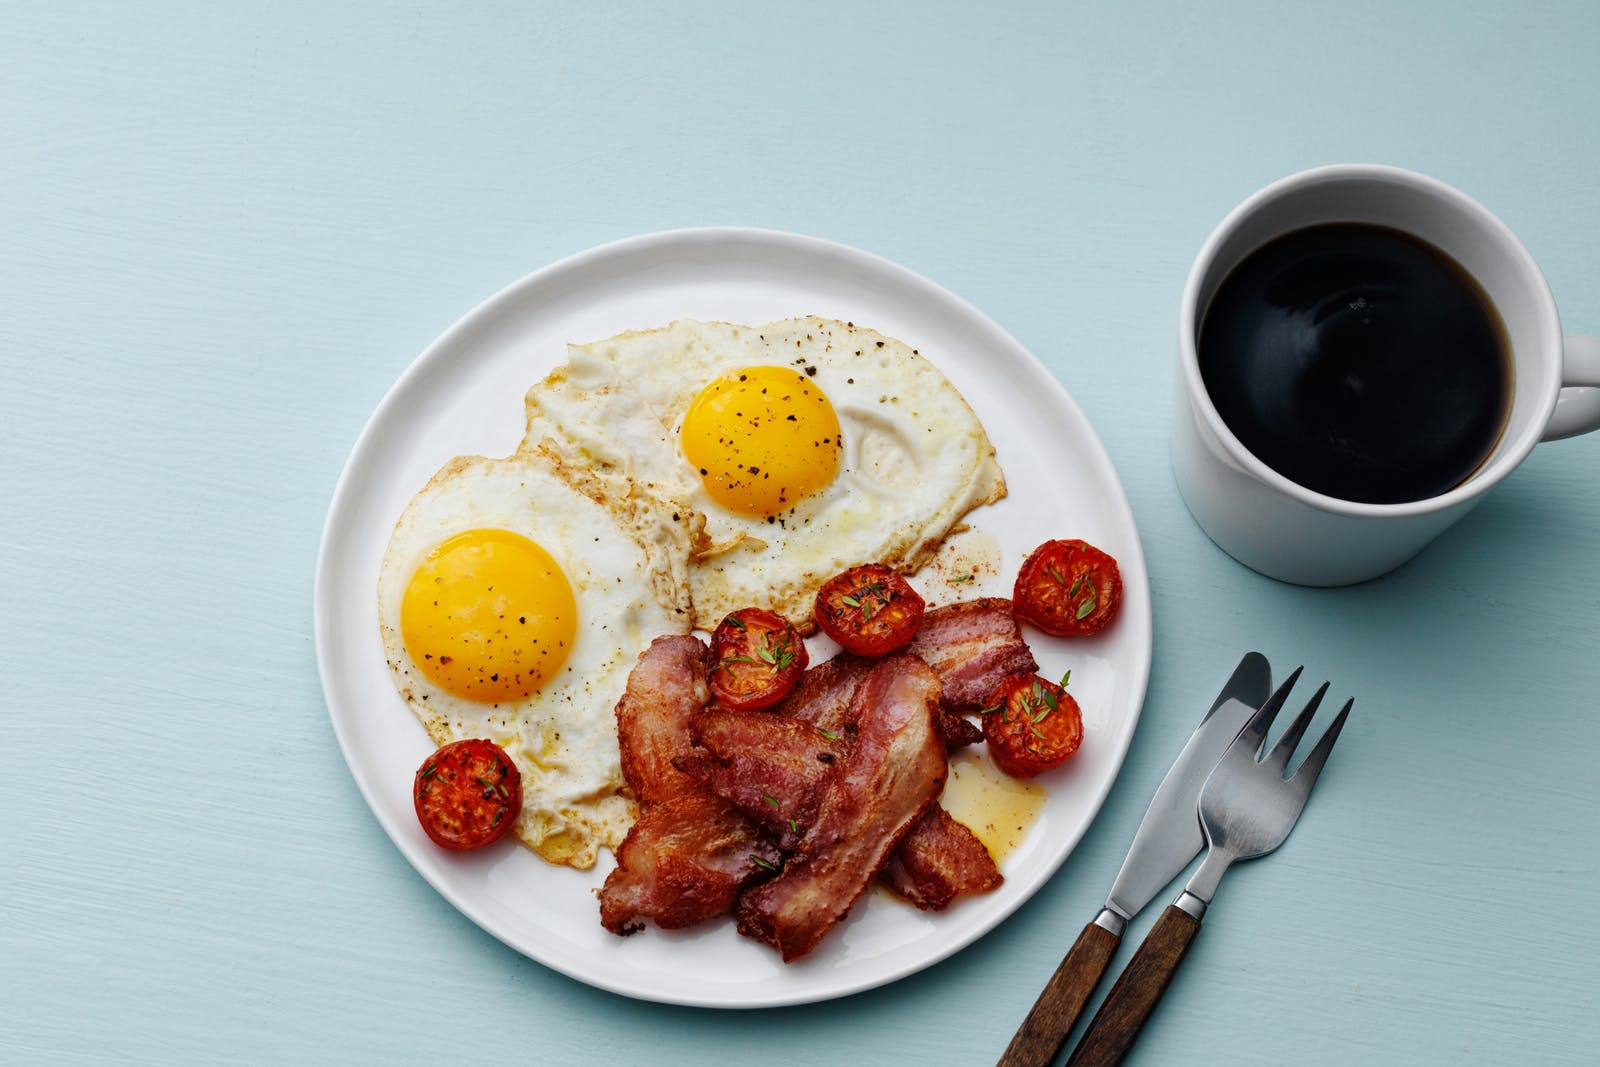fried egg: (456, 401, 929, 569)
